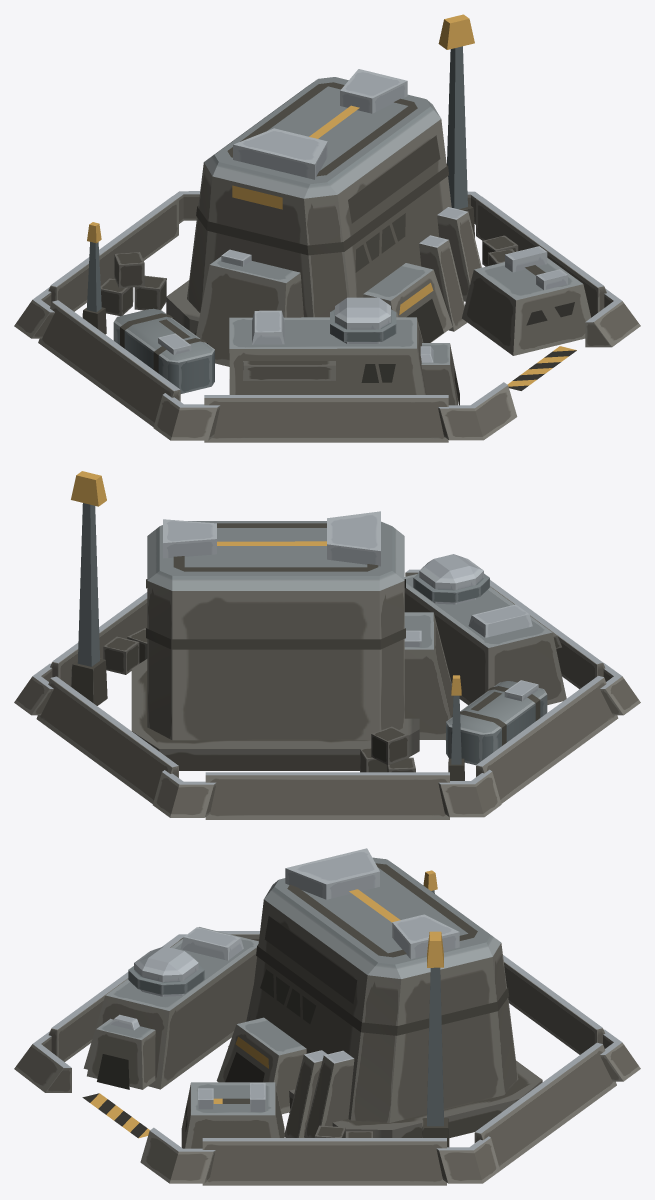
Rendered from encampment3.FBX.
3 views of the same model, one above another, from view 1: azimuth 30°, elevation 25°; view 2: azimuth 150°, elevation 25°; view 3: azimuth 270°, elevation 25° (orthographic).
Visible parts, largest first — view 1: Encampment_lv3, d, b, c, e, a; view 2: Encampment_lv3, d, e, a; view 3: Encampment_lv3, d, c, e, b, a.
Boxes of the visible parts, <box> form: Encampment_lv3: <box>14,14,640,442</box>; d: <box>233,128,327,179</box>; b: <box>419,235,467,331</box>; c: <box>437,207,481,301</box>; e: <box>340,69,407,113</box>; a: <box>330,309,396,341</box>; Encampment_lv3: <box>14,471,640,819</box>; d: <box>327,511,380,566</box>; e: <box>163,519,216,558</box>; a: <box>413,572,489,602</box>; Encampment_lv3: <box>14,857,640,1185</box>; d: <box>285,848,379,899</box>; c: <box>304,1050,354,1137</box>; e: <box>392,914,459,959</box>; b: <box>284,1050,327,1137</box>; a: <box>128,964,204,994</box>.
Bounding box in the file's own units: 166 × 191 × 80.25.
